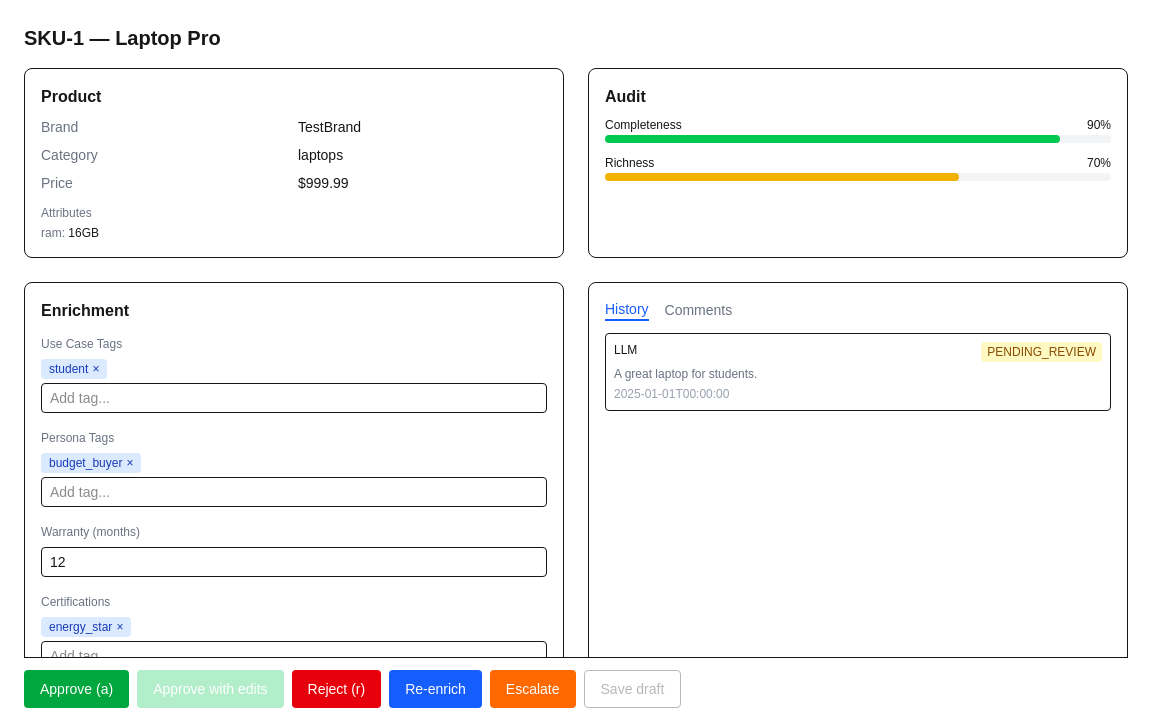
Test: Review Workspace › escalate button opens modal
Click the button "Escalate": (533,689) [490, 670, 576, 708]
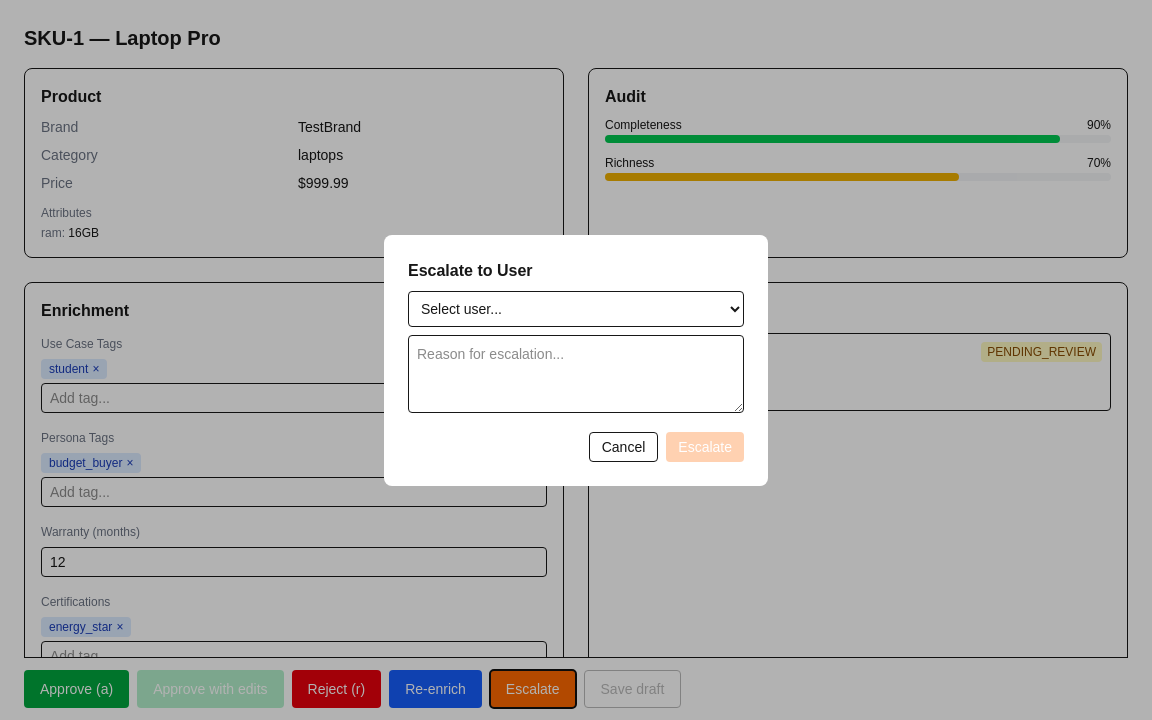
Result: the heading "Escalate to User" is shown at [408, 262, 532, 278]
